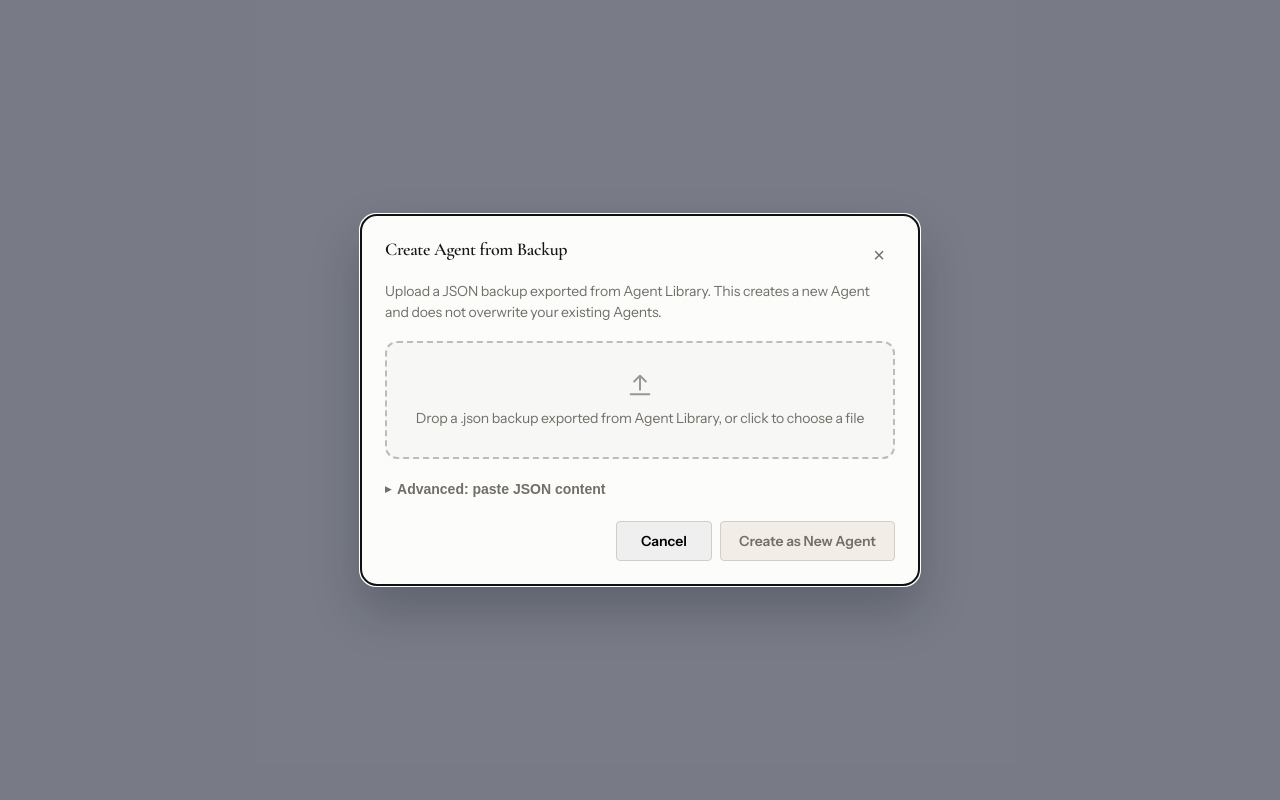
Scenario: PersonaExportImport — ImportDialog › opens as a backup creation dialog with advanced JSON paste collapsed
Expected: the dialog "Create Agent from Backup" is shown, [360,214,920,586]
Expected: the text "Upload a JSON backup exported from Agent Library" is shown, [385,282,870,321]
Click the button "Advanced: paste JSON content".
click(495, 489)  # box [385,481,606,497]
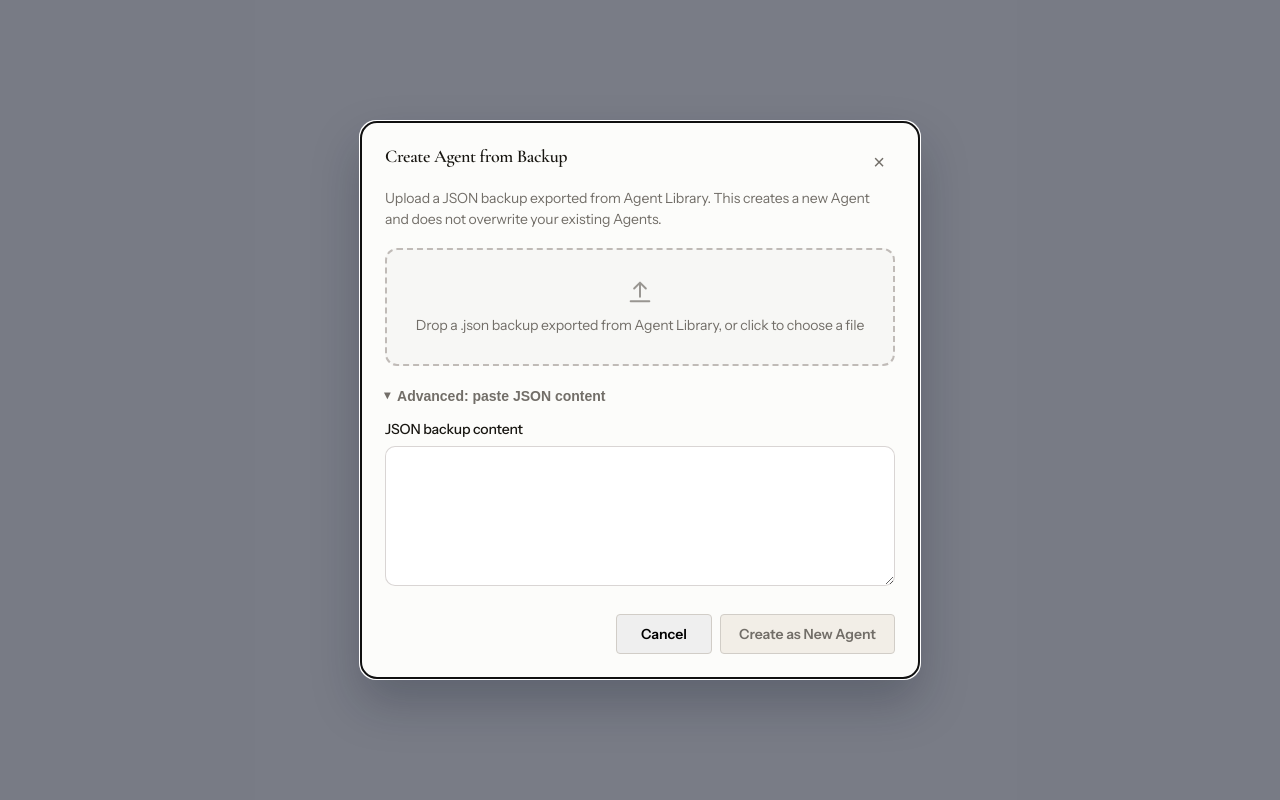
Now the text box with test id "persona-paste-textarea" is shown, box [385,446,895,586]
